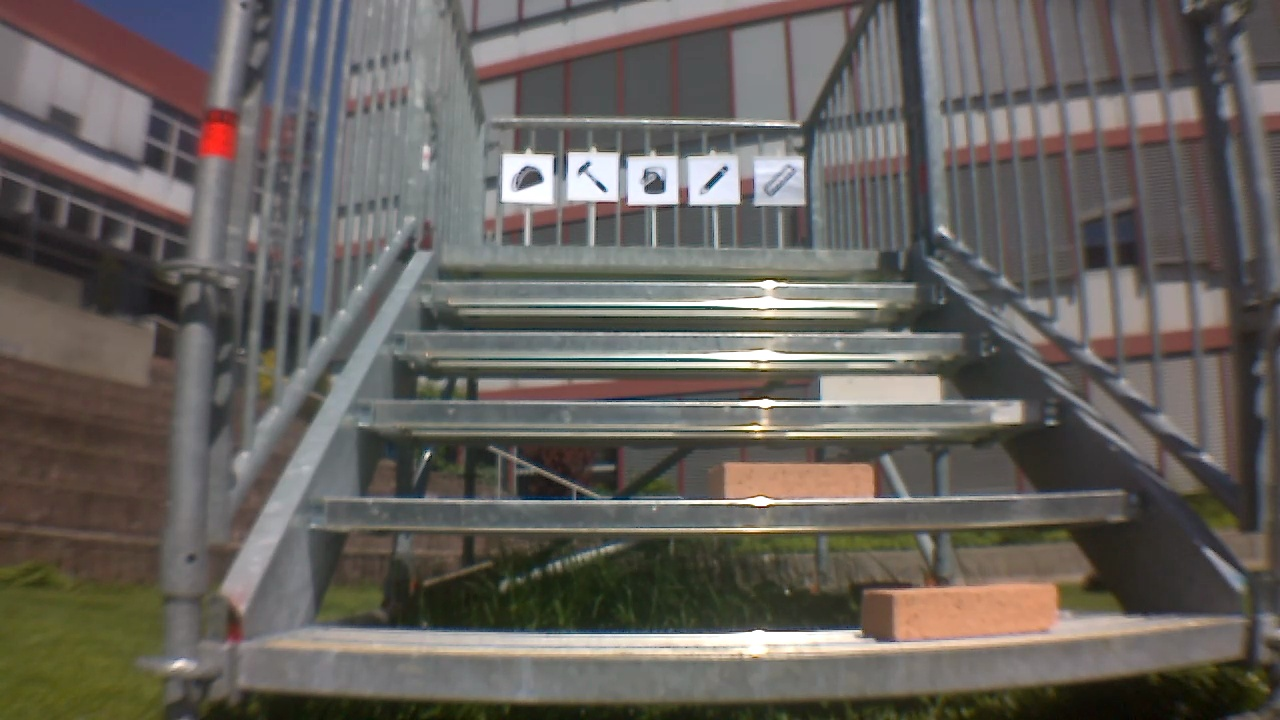brick: (857, 574, 1059, 644), (715, 459, 878, 507), (813, 372, 945, 405)
bucket: (638, 166, 670, 195)
edge: (243, 622, 1259, 698), (293, 489, 1136, 532), (351, 395, 1068, 433), (377, 329, 999, 361), (416, 279, 946, 303), (438, 247, 917, 271)
hammer: (572, 161, 609, 192)
pencil: (698, 162, 732, 198)
stairs: (162, 0, 1280, 711)
steps: (197, 243, 1252, 698)
taco: (512, 165, 545, 197)
